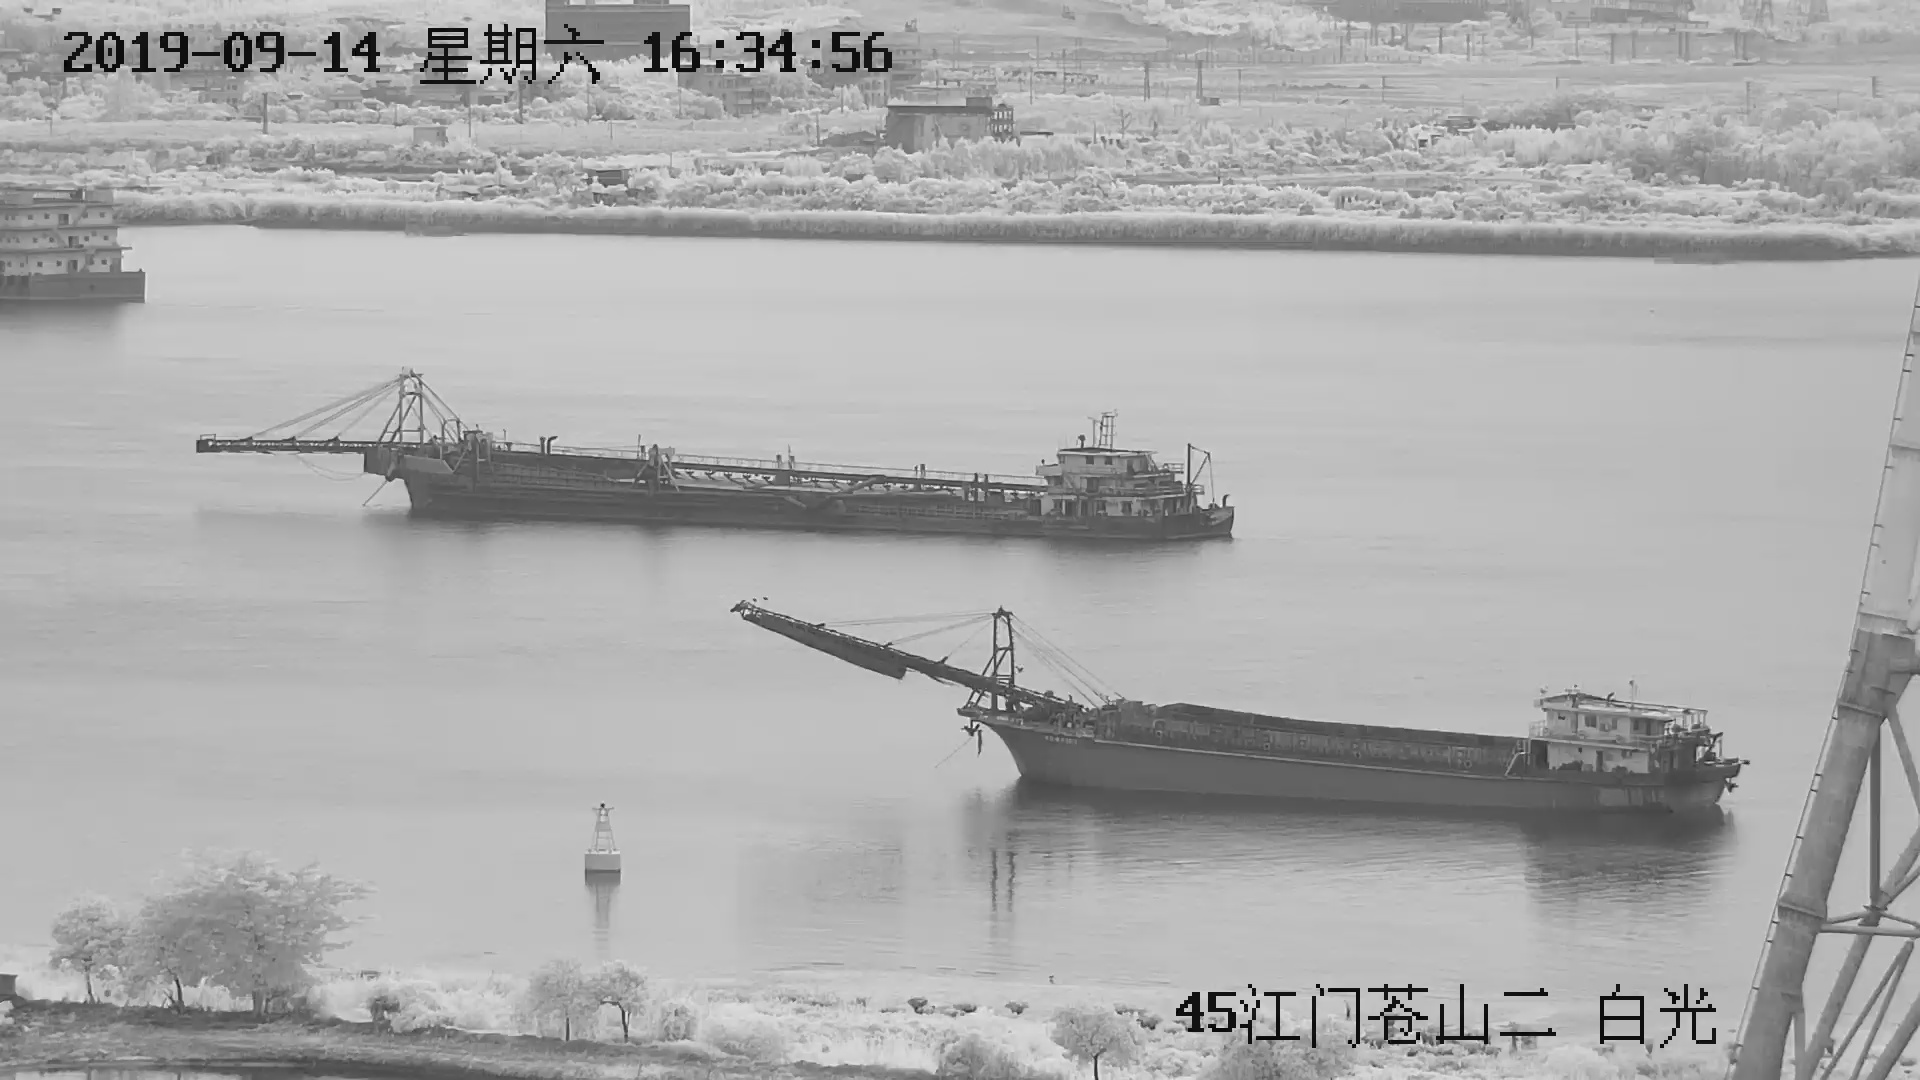ship: (742, 607, 1745, 818), (196, 375, 1234, 535)
